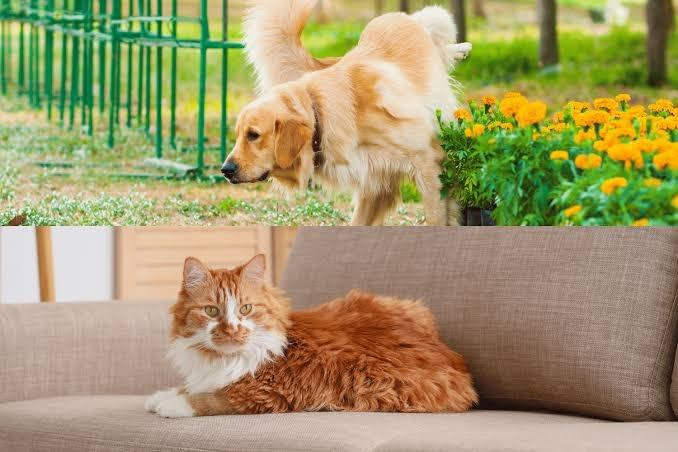adult_dog: (219, 0, 474, 226)
non-dog: (144, 253, 480, 419)
